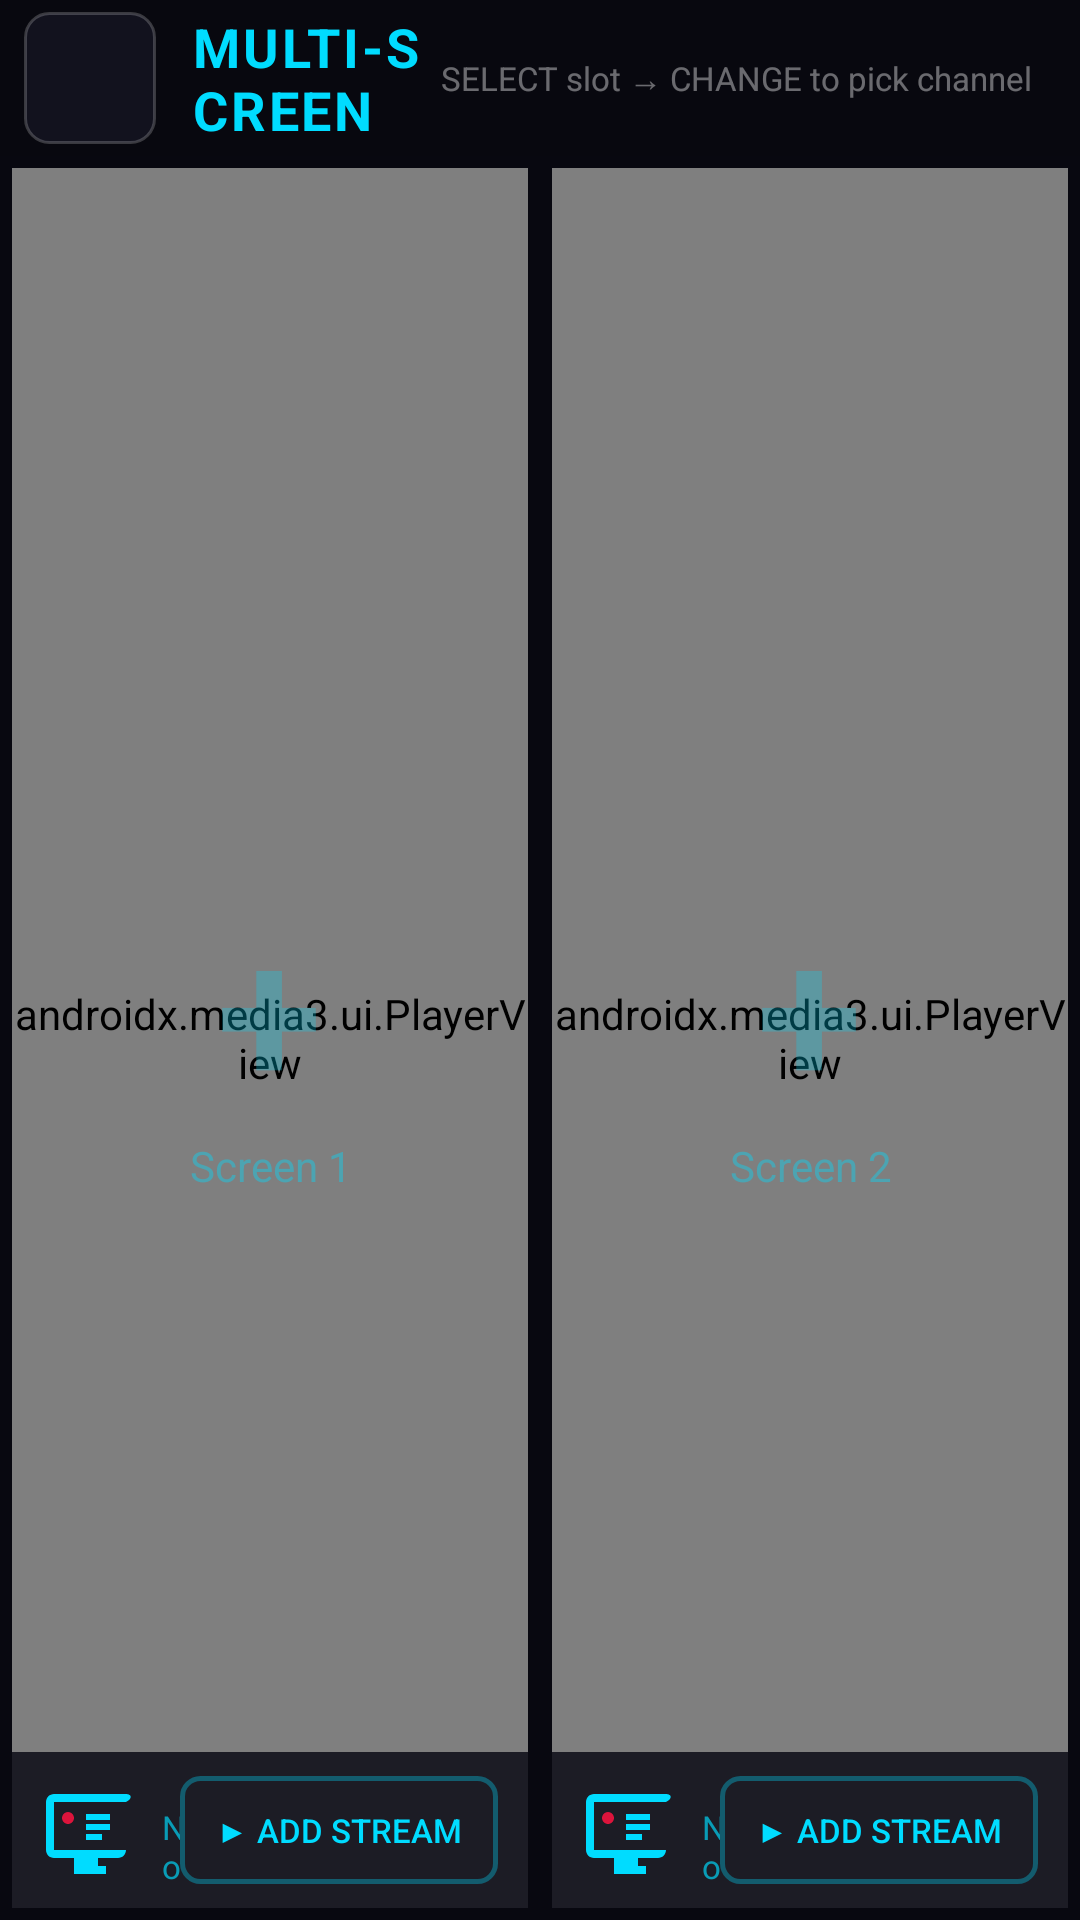

Named icons in this screenshot (1080 x 1920) and their centers, (x=x, y=y):
live: (x=88, y=1834), (x=628, y=1834)
